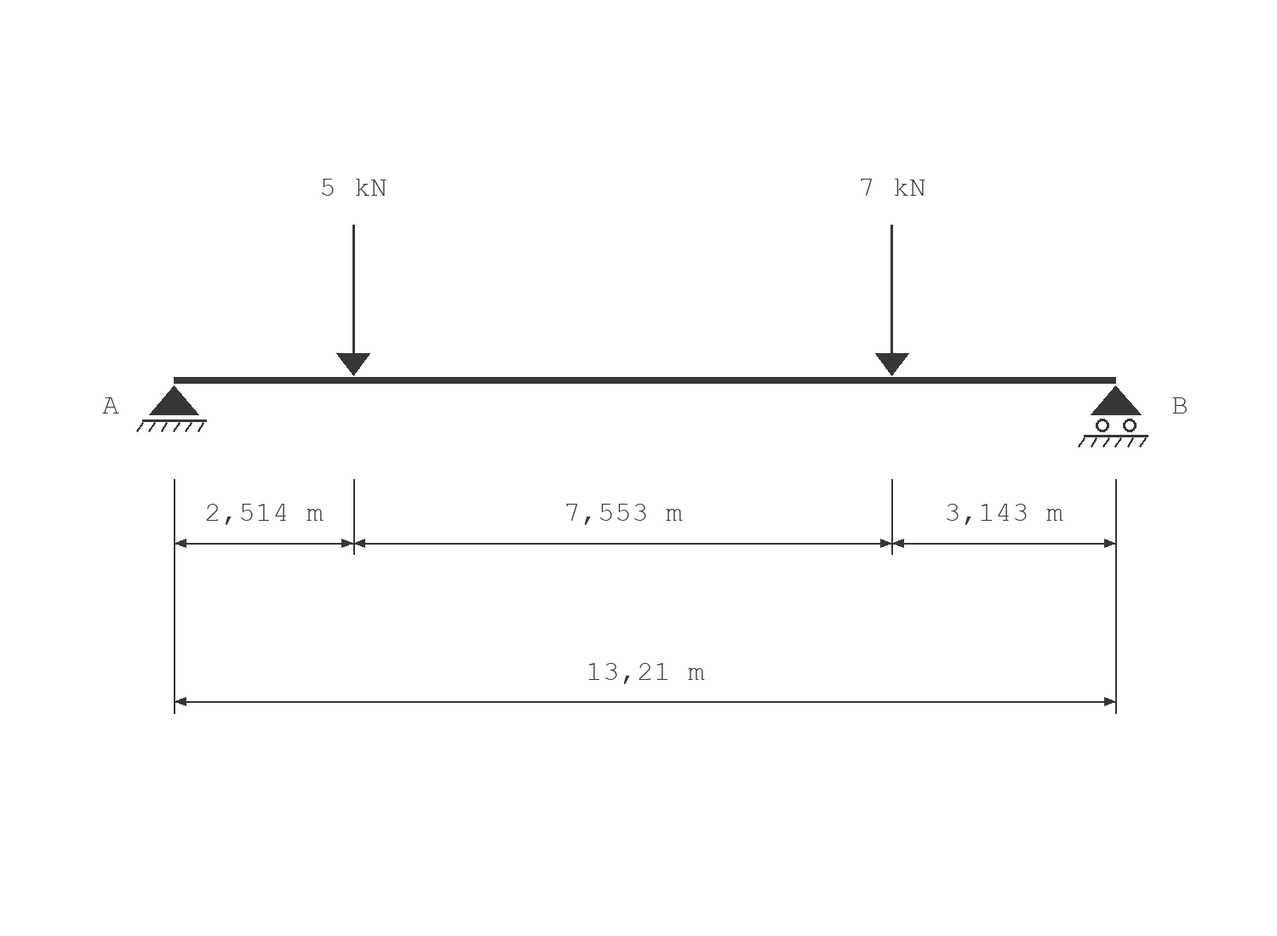pin_support: (136, 385, 207, 432)
point_load: (336, 225, 370, 376), (875, 225, 909, 376)
roller_support: (1078, 385, 1148, 448)
